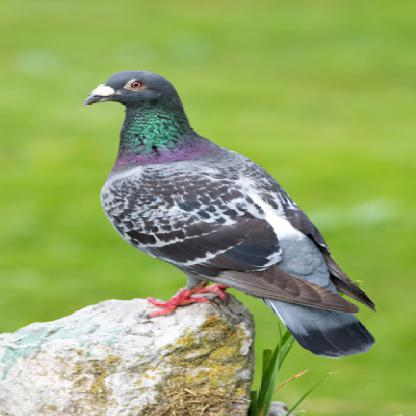Flying Rat: (89, 72, 375, 360)
